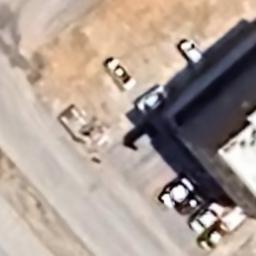sedan: (190, 202, 224, 236), (162, 175, 195, 210), (105, 58, 137, 91), (136, 84, 170, 114), (179, 40, 208, 72), (199, 224, 229, 252), (179, 190, 210, 216)
